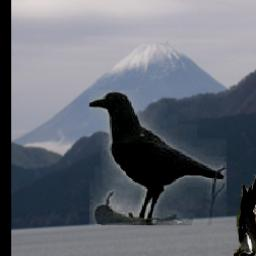Crow: (88, 91, 226, 226)
Woodpecker: (234, 162, 256, 256)
